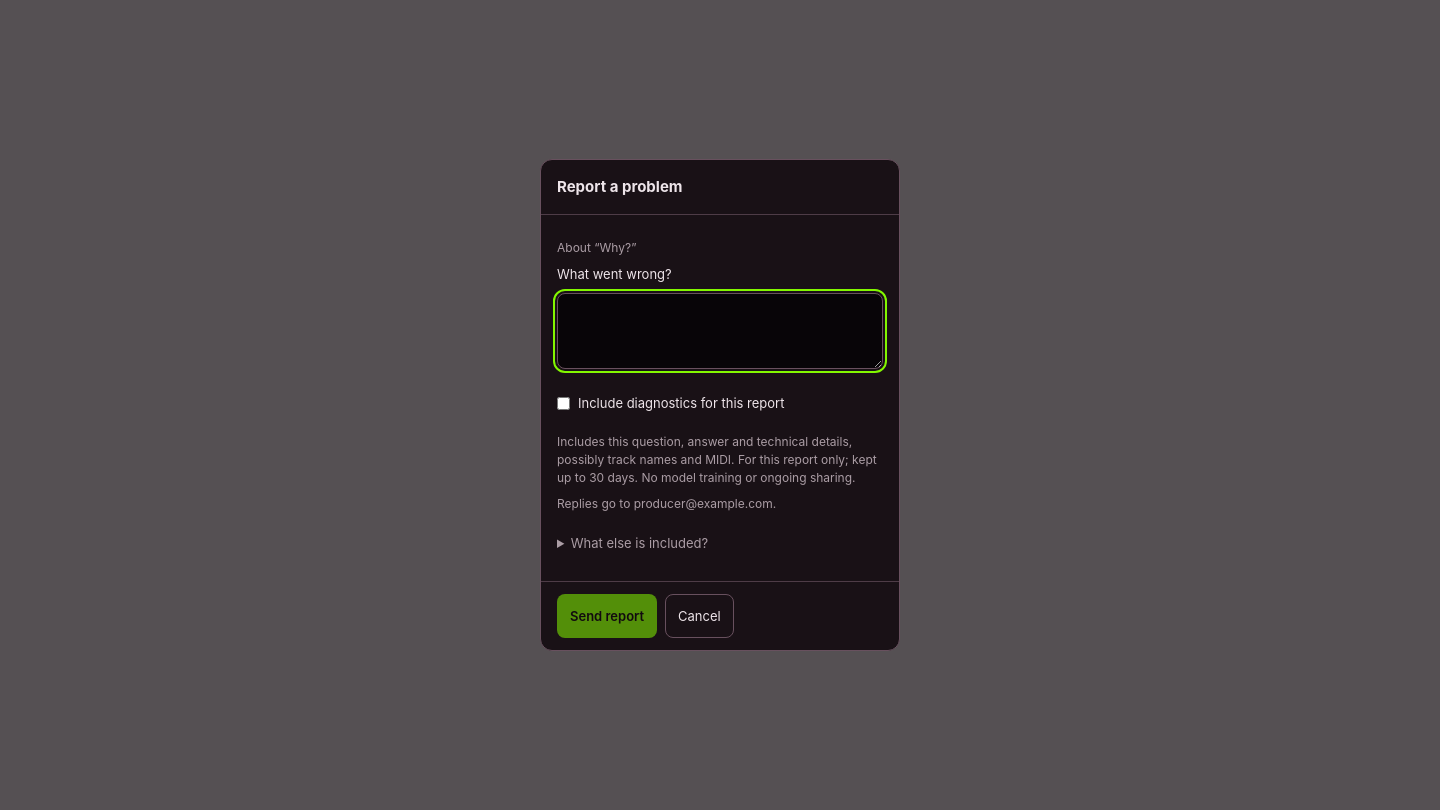
Test: sends only the native input fields even when the controller target carries account metadata
The width and height of the screenshot is (1440, 810).
Type "Failure" into the text box labelled "What went wrong?" at (720, 331), box x1=557 y1=293 x2=883 y2=369
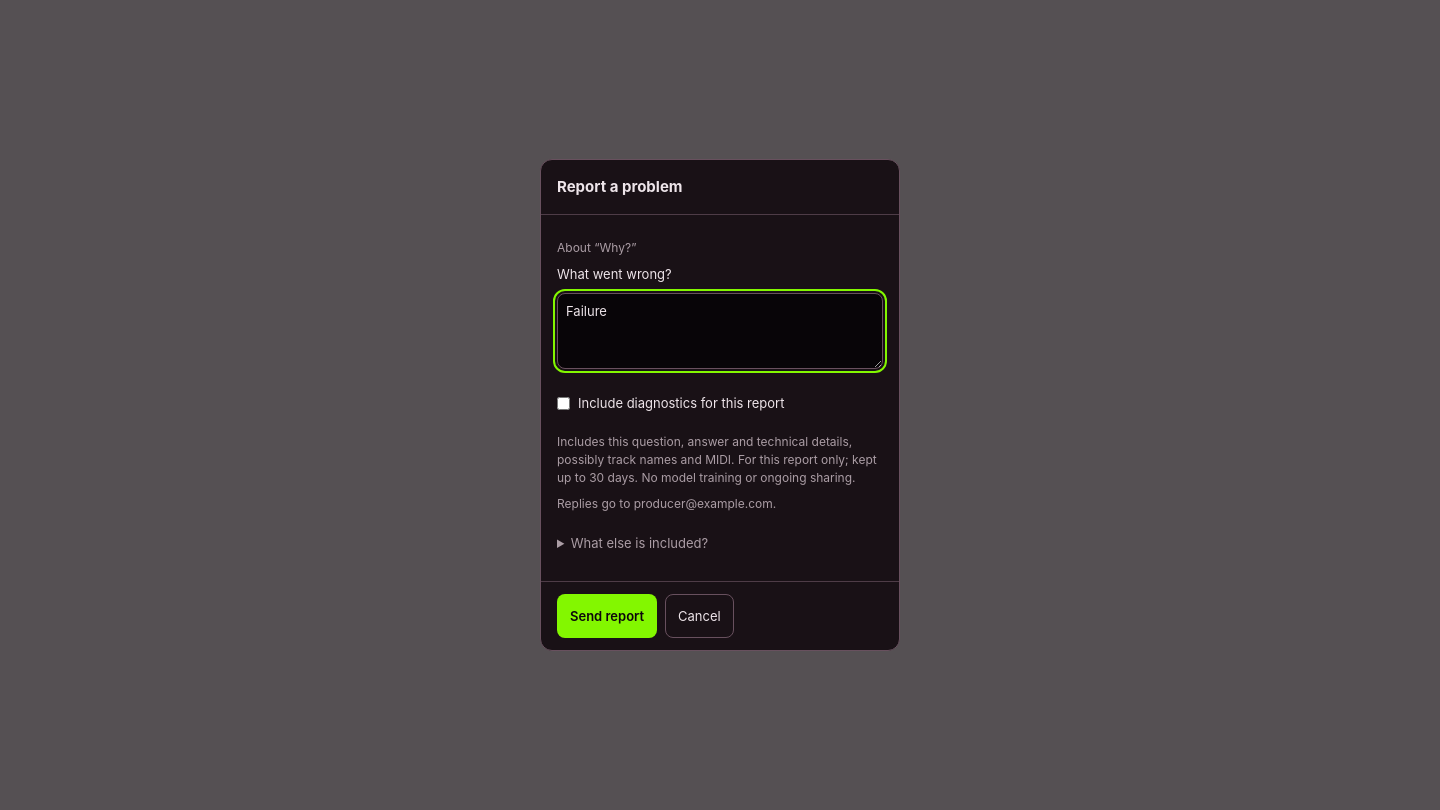
Click the button "Send report" at (607, 616), box x1=557 y1=594 x2=657 y2=638
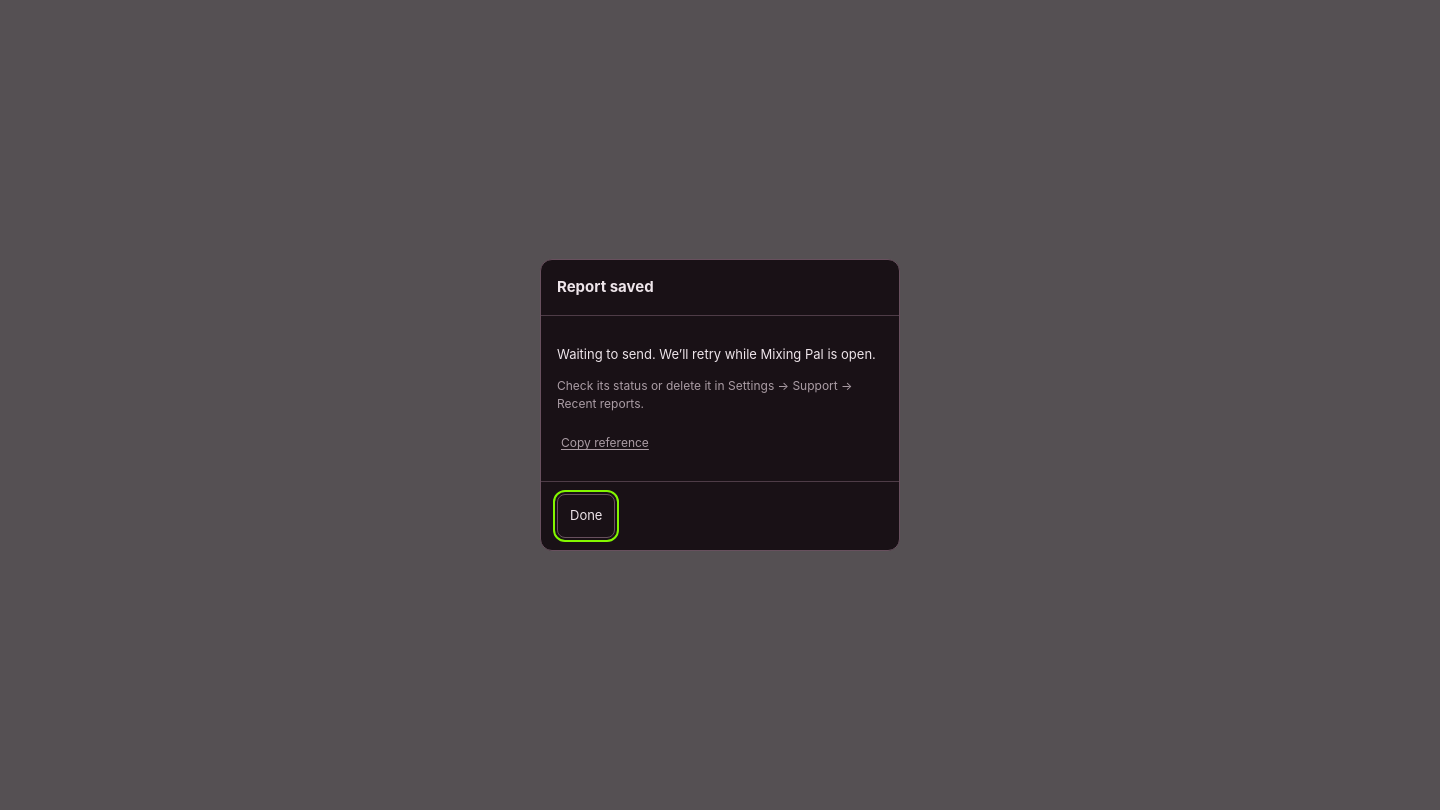
Result: the text "Waiting to send. We’ll retry while Mixing Pal is open." is shown at x1=557 y1=344 x2=883 y2=364
